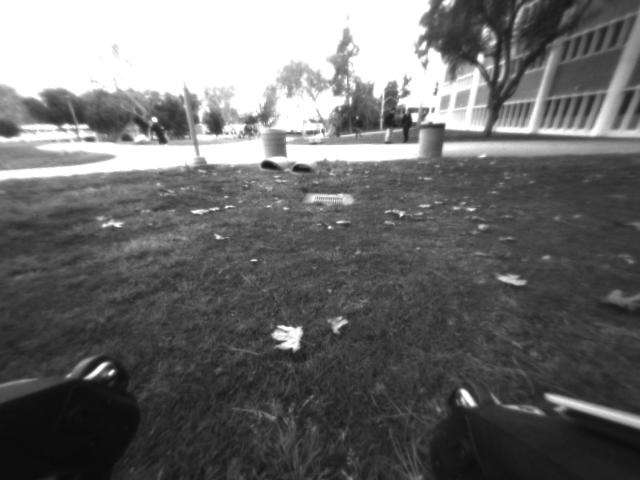trashcan: (411, 122, 444, 166), (259, 128, 291, 166)
